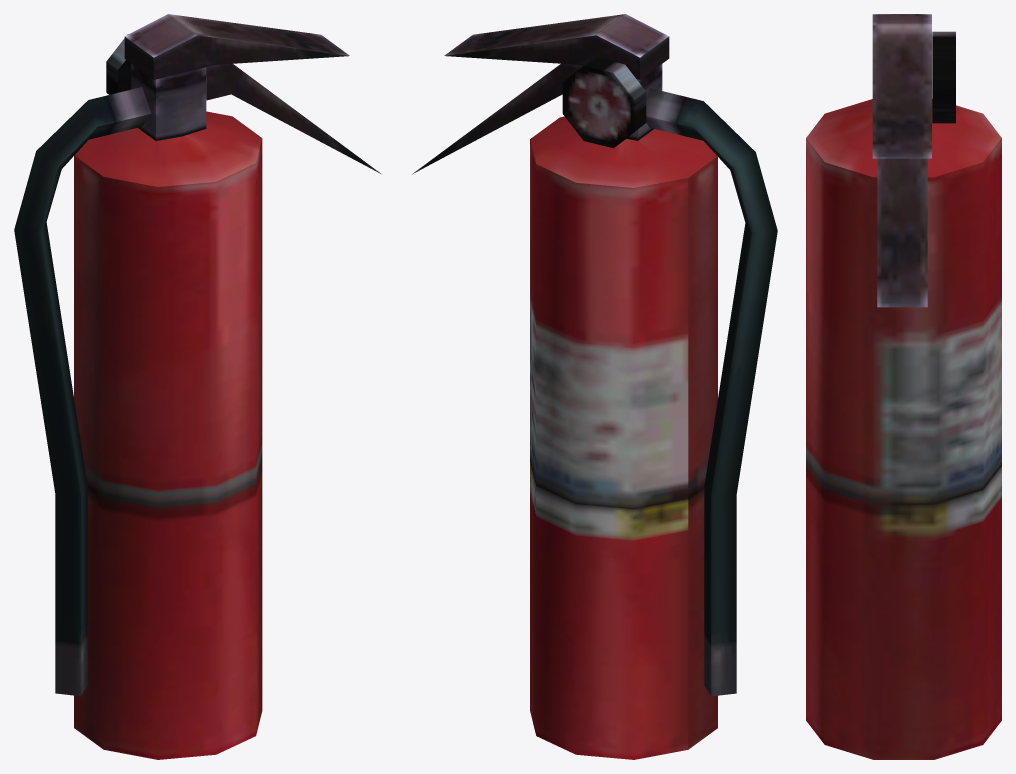
File: fire_ext01.fbx
The picture shows the model from 3 angles, left to right: view 1: azimuth 30°, elevation 25°; view 2: azimuth 150°, elevation 25°; view 3: azimuth 270°, elevation 25°; orthographic projection.
Parts seen in each view (by area): view 1: mesh_0; view 2: mesh_0; view 3: mesh_0.
Boxes of the visible parts, bbox=[...] form: mesh_0: bbox=[14, 14, 380, 759]; mesh_0: bbox=[412, 14, 777, 759]; mesh_0: bbox=[806, 14, 1001, 759].
Bounding box in the file's own units: 28.61 × 53.21 × 13.42.
1 material, 1 textured.
